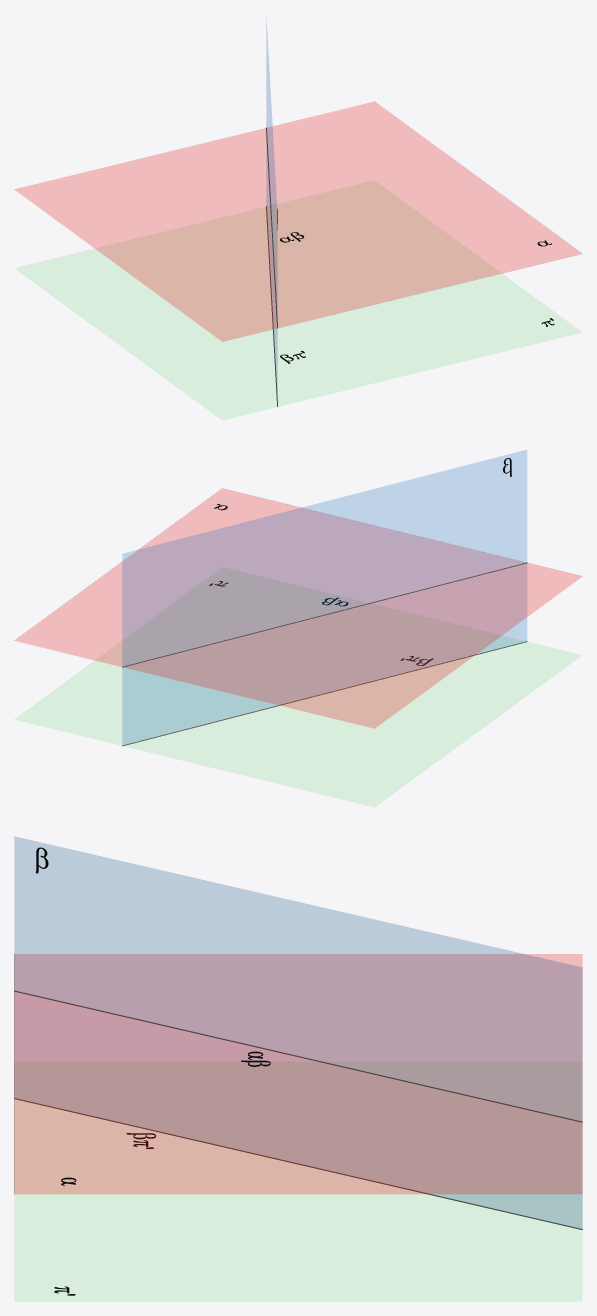
Rendered from int_pv_phN.glb.
3 renders of one model, top to bottom at view 1: azimuth 30°, elevation 25°; view 2: azimuth 150°, elevation 25°; view 3: azimuth 270°, elevation 25°, orthographic. The views are drawn at different scales.
Visible parts, largest first — view 1: root; view 2: root, Pipe (×2); view 3: root, Pipe (×2).
Boxes of the visible parts, x1,y1,x2,y2 form: root: (15, 22, 582, 419); root: (14, 450, 582, 806); Pipe (×2): (122, 562, 527, 746); root: (14, 837, 582, 1301); Pipe (×2): (14, 990, 582, 1229).
Bounding box in the file's own units: 2.54 × 1.3 × 2.54.
